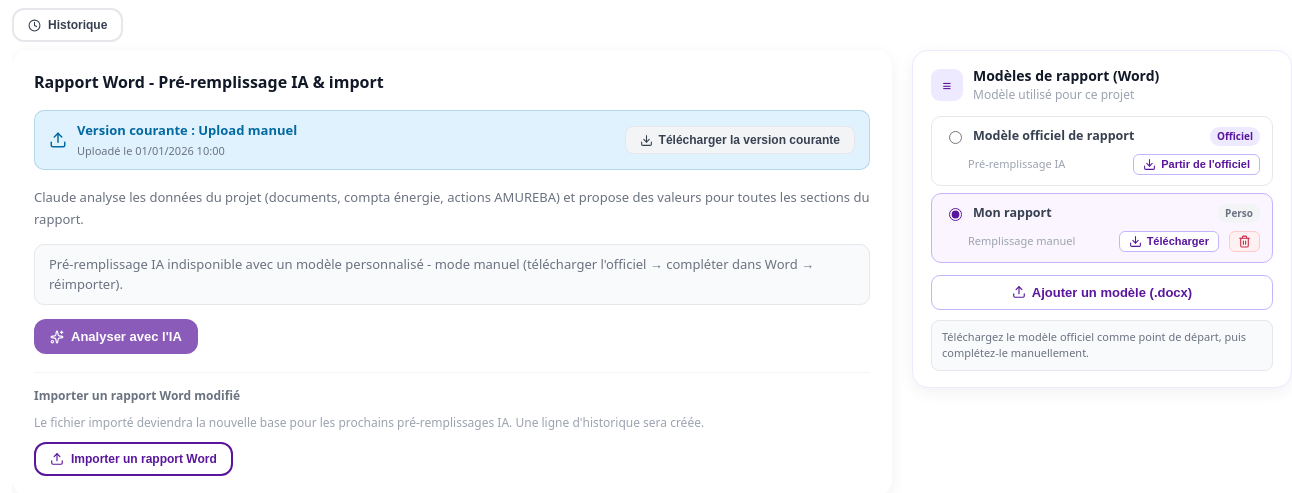
Test: ProjectReport - gating modèle rapport › repasser à l'officiel réactive le prefill IA (capacité remontée à la sélection)
expect the text "Mon rapport" is shown: met, box [973, 204, 1052, 221]
expect the text "indisponible avec un modèle personnalisé" is shown: met, box [49, 255, 814, 293]
Click the 1st radio button: (956, 138) [949, 131, 962, 144]
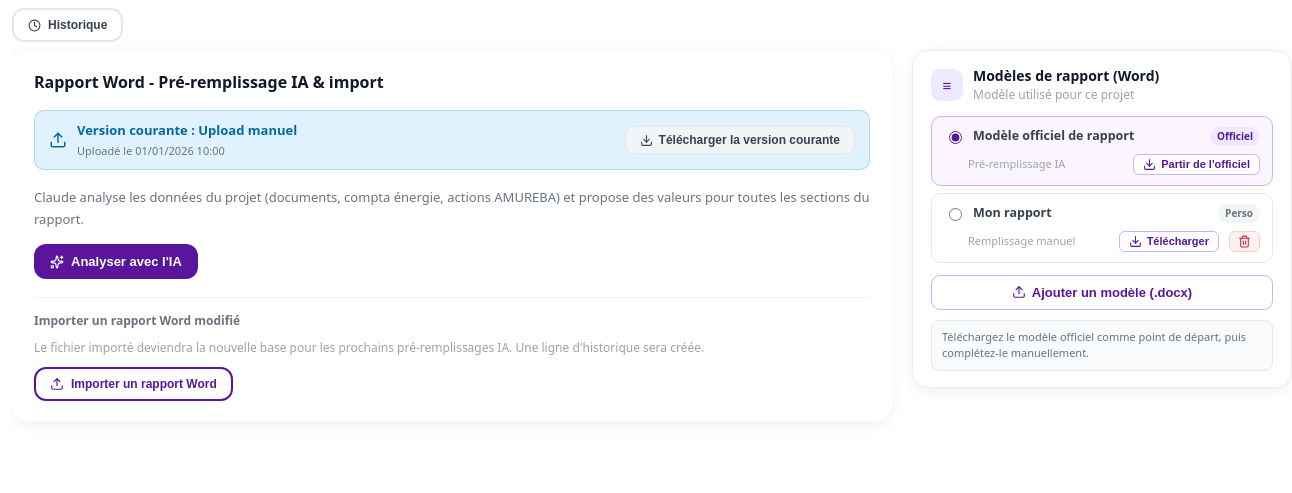
expect the text "indisponible avec un modèle personnalisé" is gone: met
expect the button "Analyser avec l'IA" is enabled: met, box [34, 244, 198, 279]
